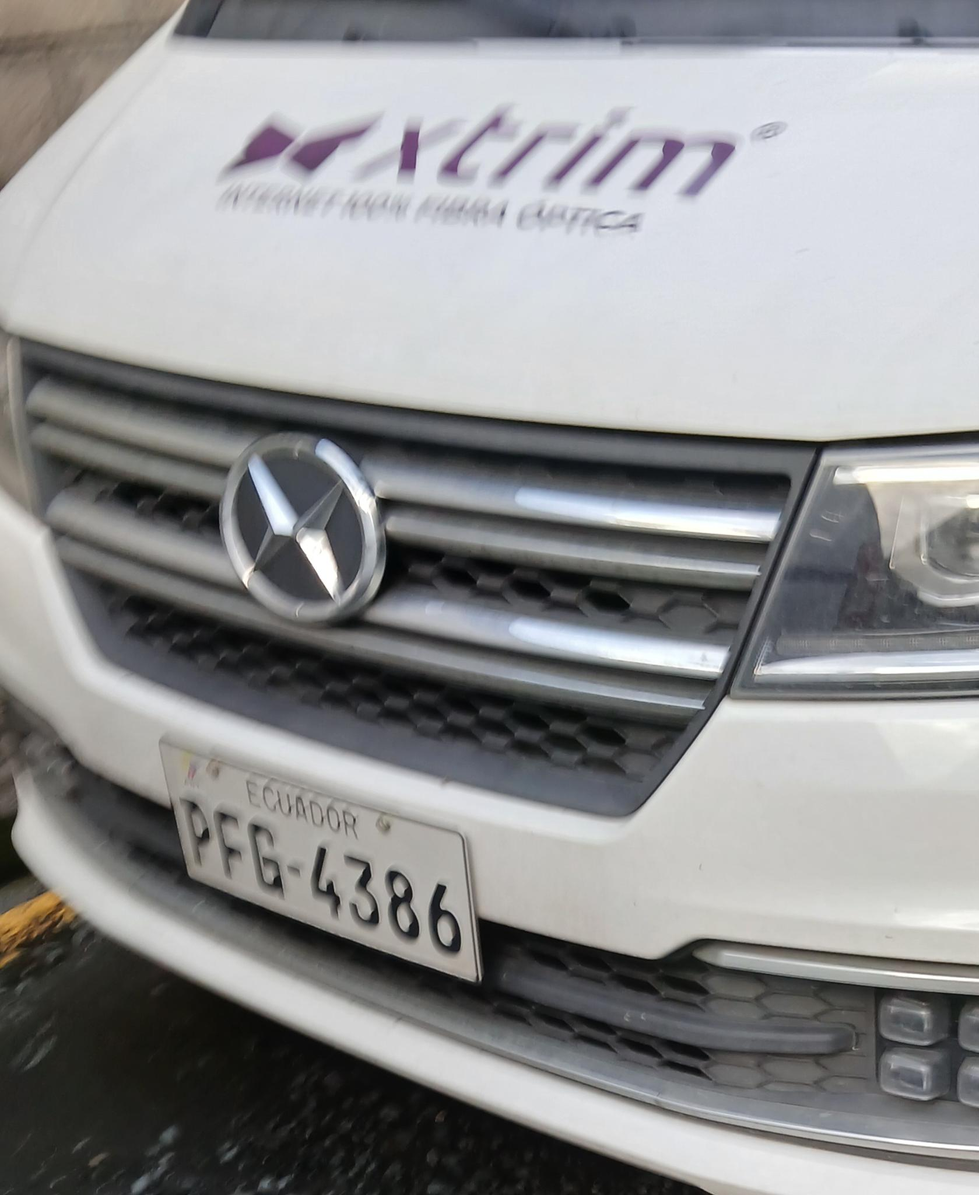license_plate: (159, 738, 478, 986)
